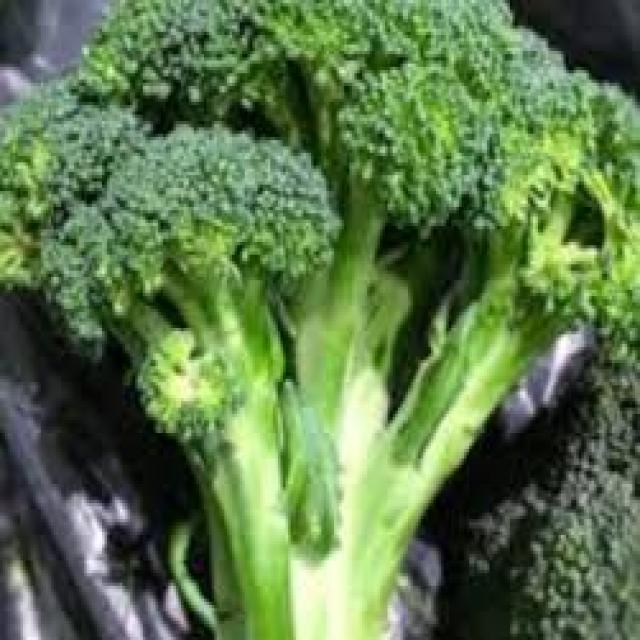organic waste: (0, 0, 637, 637), (447, 341, 638, 637)
